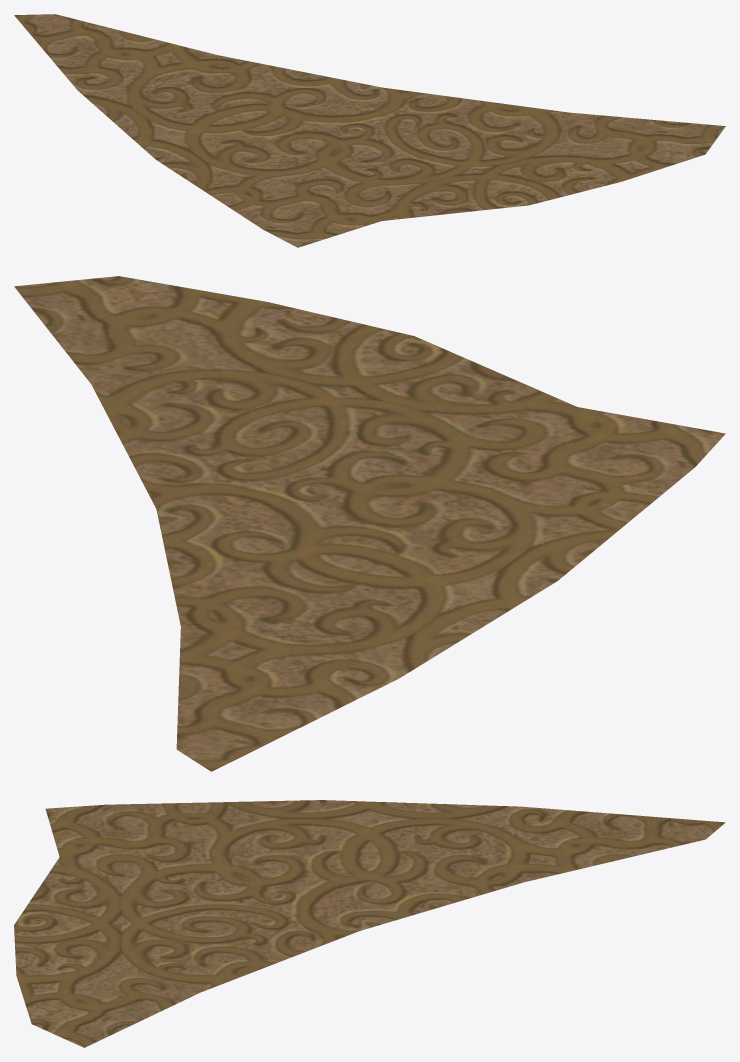
The model's file is EKH_THRONE_PS_TH_LINE25.obj.
The picture shows the model from 3 angles, top to bottom: view 1: azimuth 30°, elevation 25°; view 2: azimuth 150°, elevation 25°; view 3: azimuth 270°, elevation 25°; orthographic projection. The views are drawn at different scales.
Visible parts, largest first — view 1: TH_Line25; view 2: TH_Line25; view 3: TH_Line25.
Part boxes in pixels (left/top/right/bottom): TH_Line25: left=14, top=14, right=725, bottom=247; TH_Line25: left=14, top=276, right=725, bottom=771; TH_Line25: left=14, top=800, right=725, bottom=1047.
Size of the model in its own units: 473 by 0.000183 by 574.
